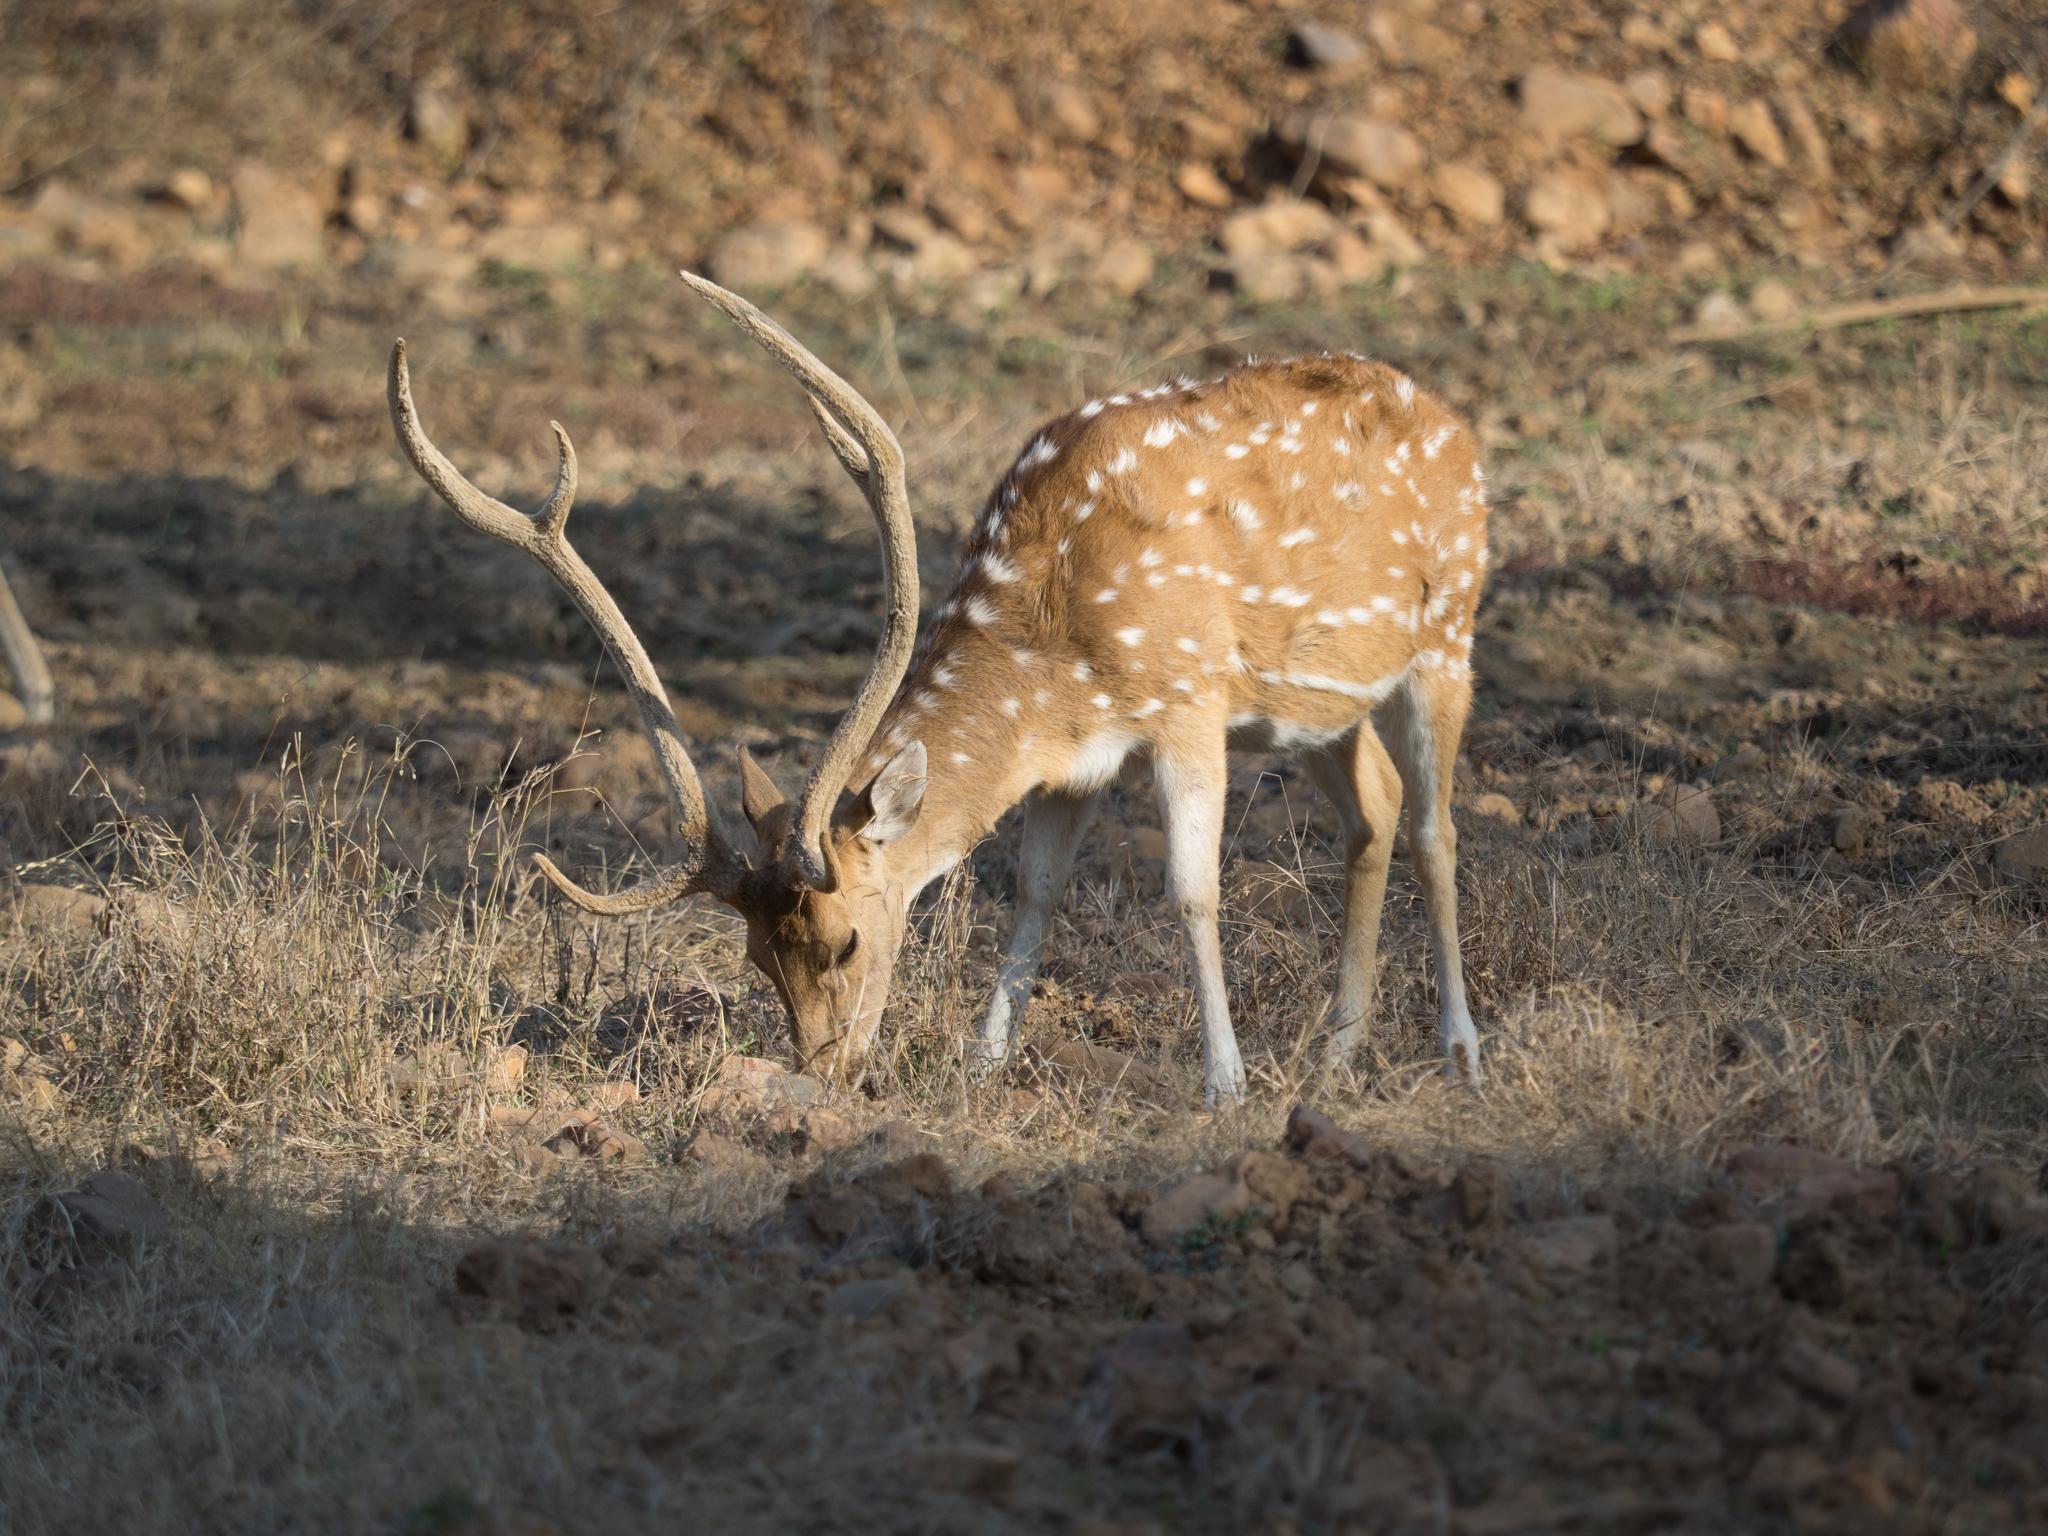Deer: (389, 273, 1485, 1105)
